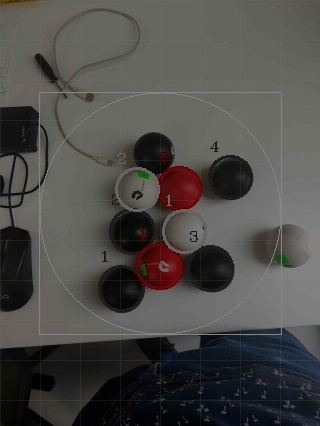Pelota blanca: (42, 7, 142, 97), (55, 92, 139, 168), (188, 244, 235, 294), (265, 222, 313, 270), (111, 166, 161, 211), (161, 209, 209, 254)
Pelota negra: (98, 265, 145, 315), (188, 244, 235, 294), (207, 153, 254, 200), (108, 209, 155, 254), (132, 129, 177, 174)
Pelota roja: (135, 241, 185, 291), (156, 164, 203, 211)
